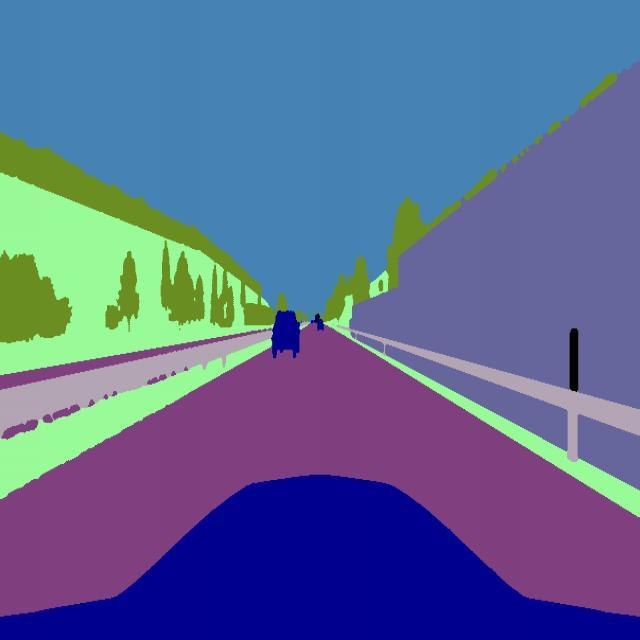safe: (272, 310, 300, 360), (316, 315, 326, 331)
